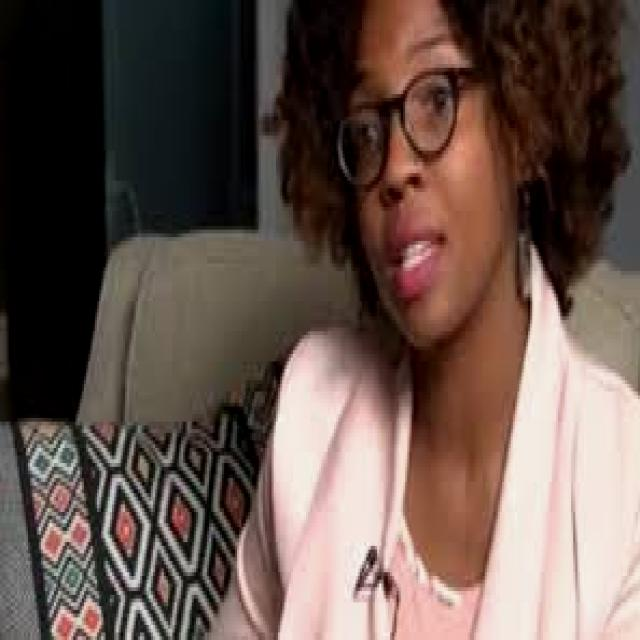normal_face: (337, 0, 546, 366)
